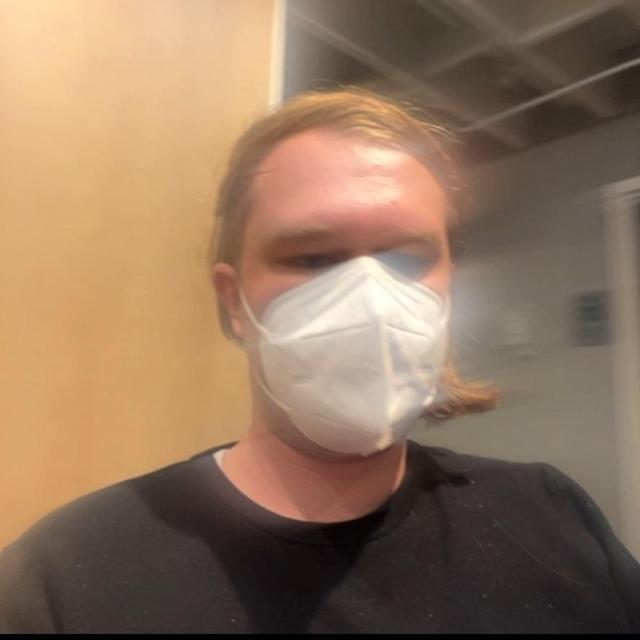no hat: (169, 61, 522, 510)
